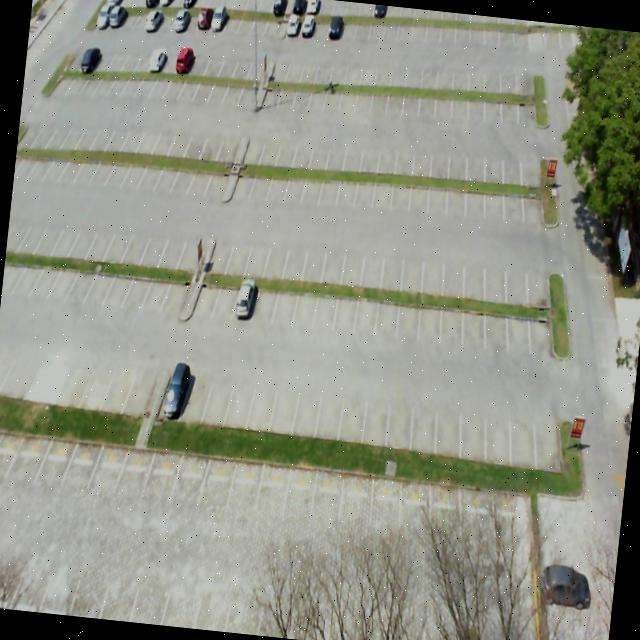empty: (56, 432, 102, 495), (86, 432, 128, 498), (5, 426, 48, 486), (32, 431, 74, 492), (112, 437, 153, 498), (197, 453, 237, 512), (530, 404, 568, 465), (481, 402, 517, 466), (141, 442, 181, 498), (170, 448, 210, 504), (198, 368, 235, 428), (281, 462, 317, 523), (227, 453, 264, 511), (506, 402, 540, 464), (34, 349, 70, 407), (458, 398, 492, 459), (256, 458, 289, 518), (207, 268, 241, 326), (433, 398, 467, 455), (409, 396, 442, 454), (100, 256, 134, 312), (77, 358, 112, 412), (120, 254, 152, 312), (248, 270, 280, 328), (54, 355, 88, 409), (290, 381, 320, 441), (137, 262, 169, 318), (99, 358, 132, 412), (338, 385, 368, 444), (178, 366, 210, 421), (244, 378, 276, 433), (120, 365, 153, 418), (222, 374, 254, 428), (362, 387, 392, 444), (386, 393, 416, 450), (526, 299, 558, 352), (159, 262, 189, 318), (83, 253, 113, 308), (267, 379, 296, 435), (313, 384, 343, 438), (481, 298, 512, 349), (440, 244, 470, 296), (482, 250, 512, 302), (190, 267, 216, 325), (460, 297, 488, 348), (526, 257, 556, 304), (436, 296, 466, 343), (118, 220, 150, 264), (184, 152, 213, 199), (422, 244, 448, 296), (270, 278, 296, 330), (292, 280, 318, 332), (136, 223, 166, 268), (310, 284, 337, 334), (100, 221, 132, 263), (151, 150, 179, 197), (504, 304, 532, 351), (506, 253, 532, 302), (353, 288, 379, 337), (402, 240, 427, 290), (396, 289, 421, 339), (418, 294, 443, 344), (462, 250, 488, 298), (170, 152, 197, 198), (378, 242, 405, 288), (520, 179, 548, 223), (220, 232, 248, 276), (280, 236, 308, 280), (157, 227, 187, 268), (178, 230, 207, 272), (374, 289, 398, 339), (230, 156, 256, 202), (136, 148, 163, 192), (202, 157, 229, 201), (339, 239, 364, 286), (0, 425, 22, 478), (243, 232, 270, 274), (336, 284, 358, 334), (301, 238, 327, 280), (204, 233, 231, 273), (262, 236, 288, 276), (318, 241, 343, 282), (359, 245, 384, 286), (283, 162, 305, 206), (300, 166, 323, 208), (466, 180, 490, 219), (267, 163, 288, 207), (372, 170, 394, 212), (486, 178, 508, 220), (502, 182, 526, 220), (250, 161, 272, 202), (408, 175, 431, 212), (392, 172, 412, 214), (428, 177, 450, 214), (336, 170, 356, 210), (318, 168, 338, 206), (447, 178, 468, 214), (354, 170, 374, 207)
occupied: (226, 272, 256, 326), (155, 368, 186, 418)
